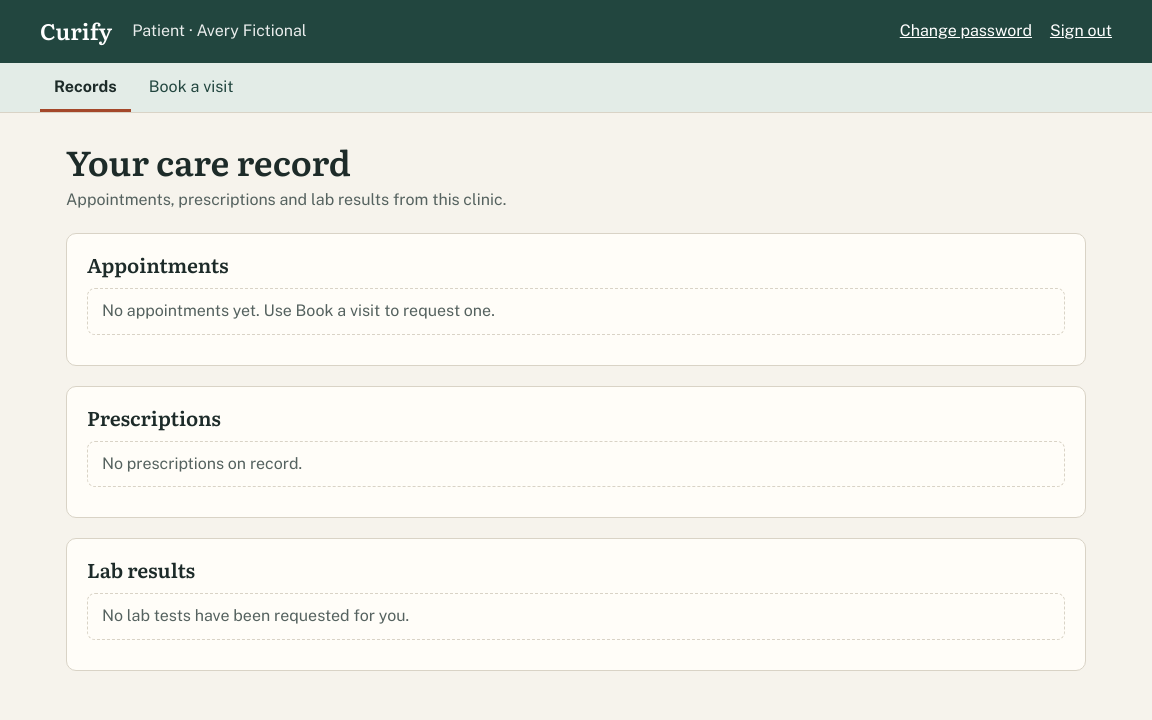
booking sends the chosen doctor, date and reason
Click the button "Book a visit".
click(191, 87)  # box [135, 63, 248, 112]
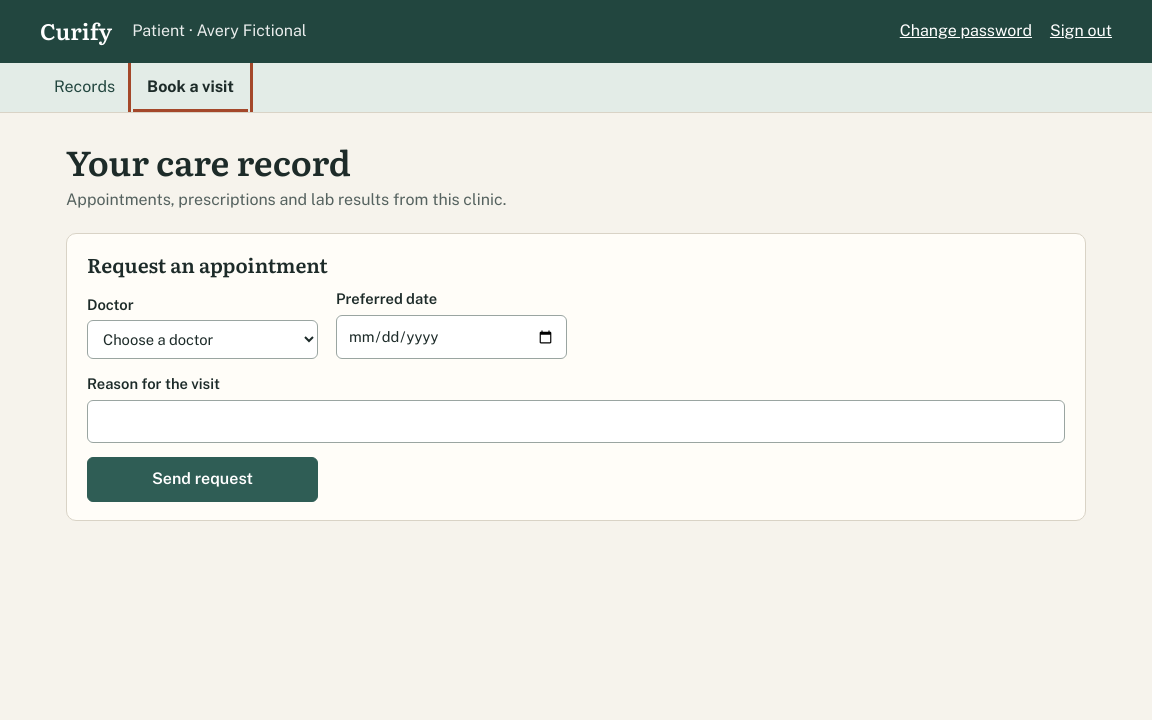
Select "Dr. Rowan Sample — General practice" in the dropdown labelled "Doctor" at (202, 340), box [87, 320, 318, 359]
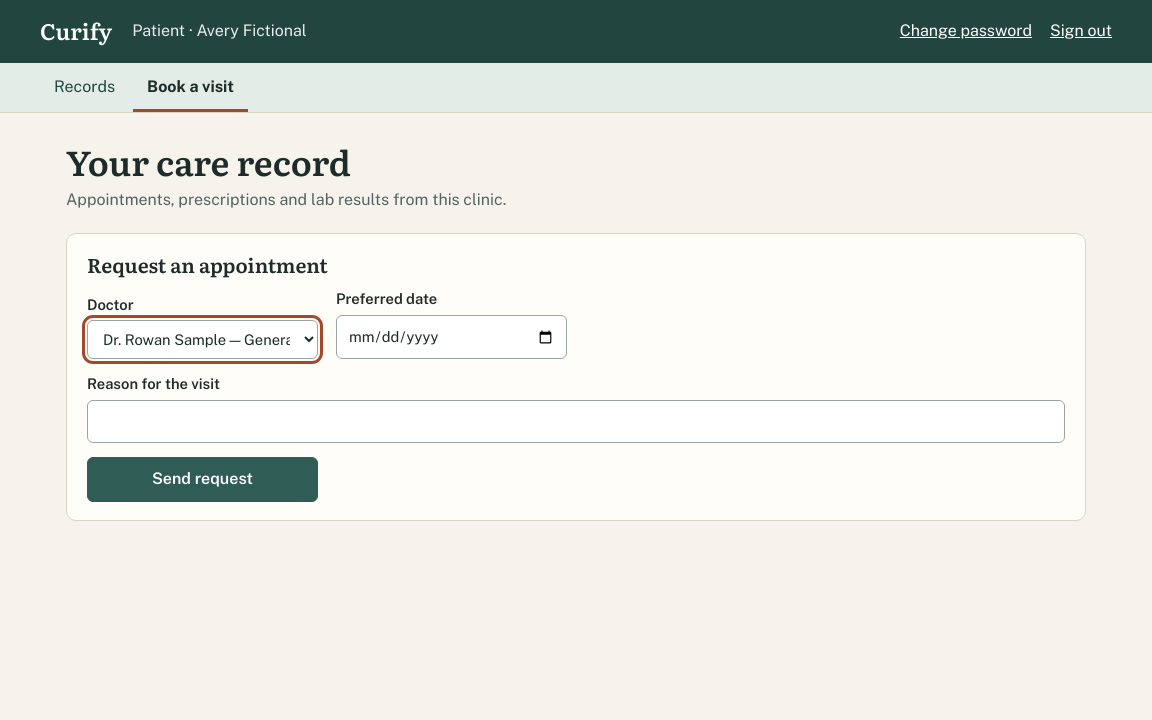
Type "2099-04-02" into the date field labelled "Preferred date".
click(452, 337); type("2099-04-02")  # box [336, 315, 567, 359]
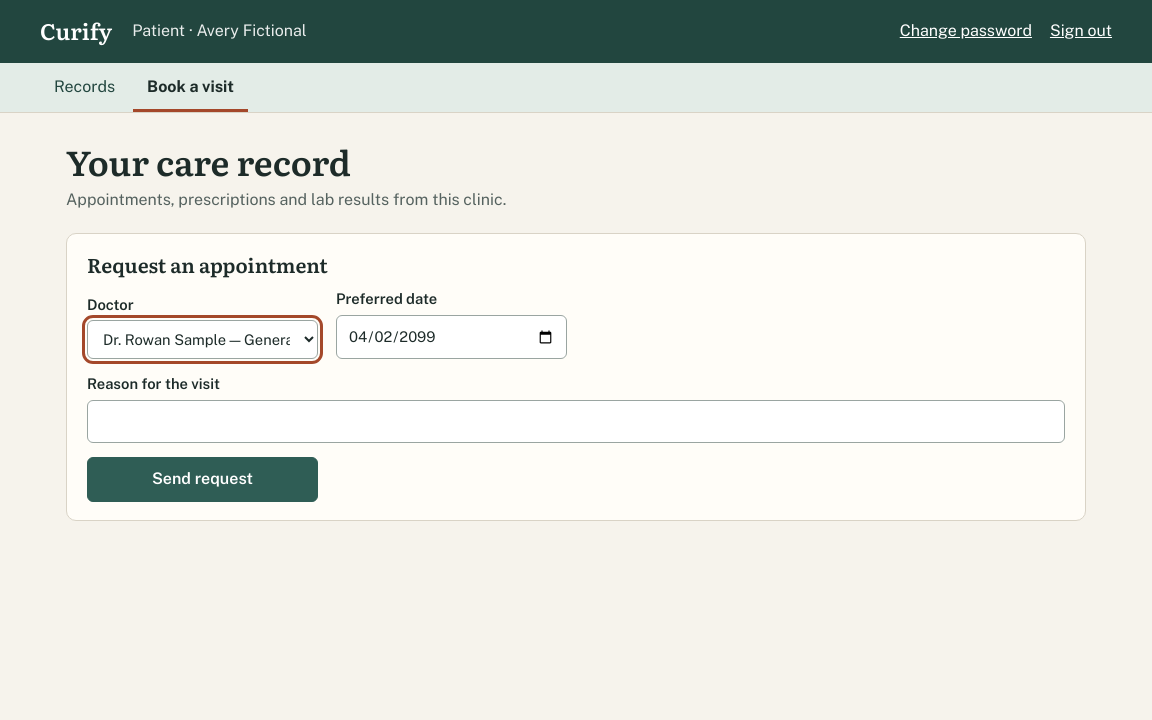
Type "Persistent cough" into the field labelled "Reason for the visit".
click(576, 422); type("Persistent cough")  # box [87, 400, 1065, 443]
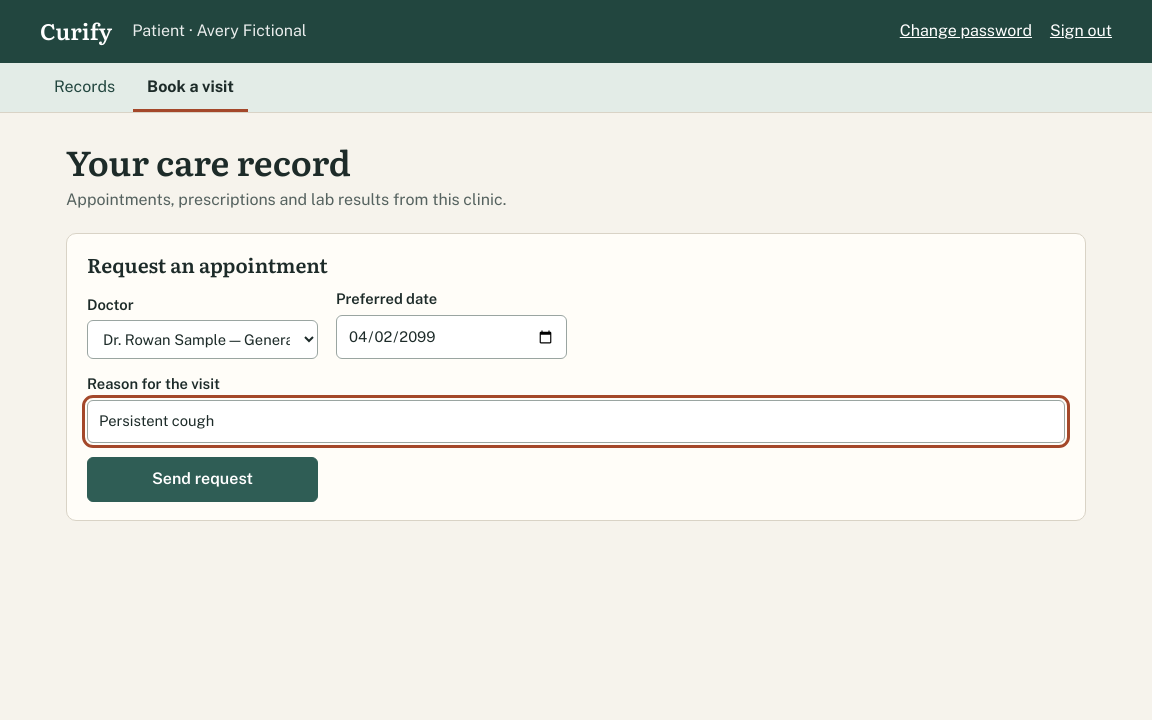
Click the button "Send request".
click(202, 479)  # box [87, 457, 318, 502]
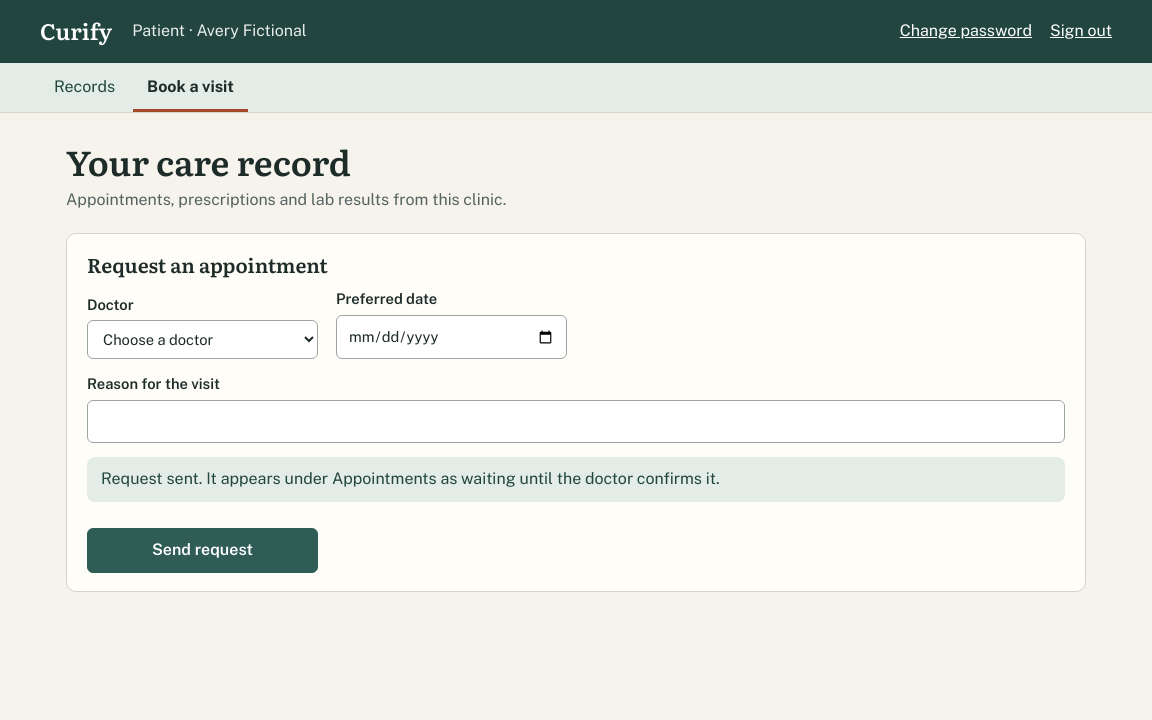
Expected: the message shows "Request sent", [101, 469, 720, 488]
